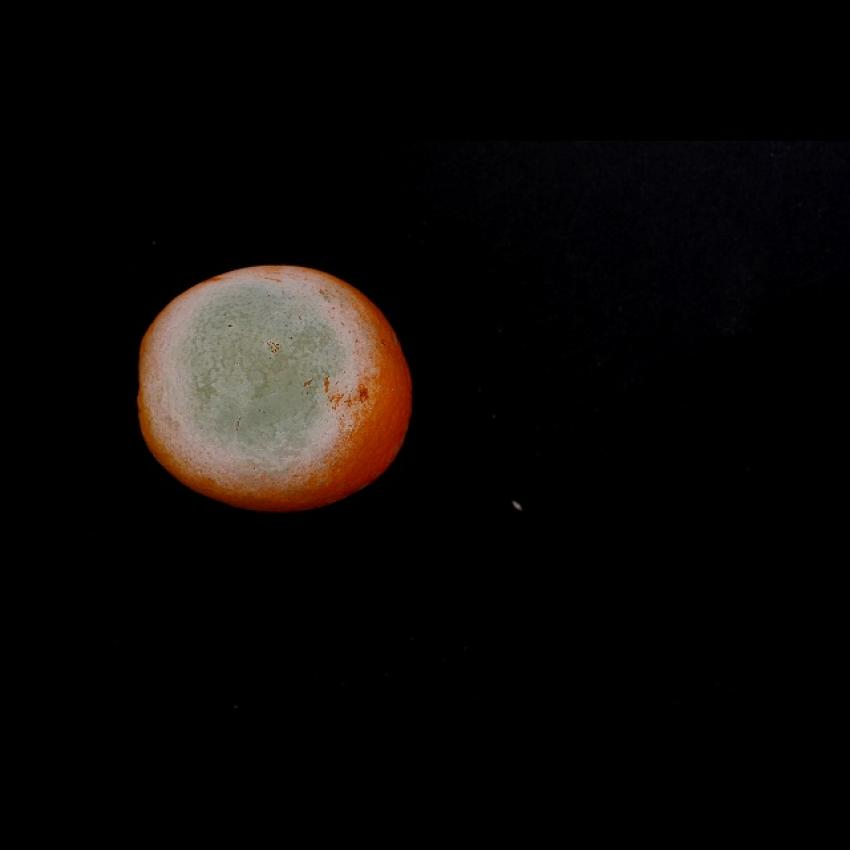Mal estado: (121, 244, 431, 518)
